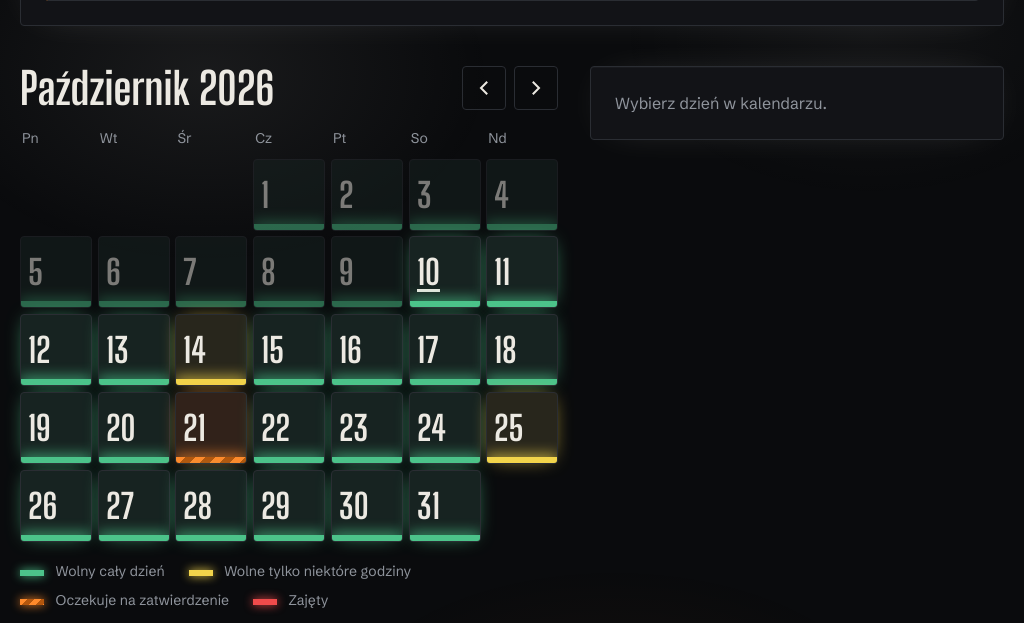
Test: panel admina › błąd wysyłki e-maila: spotkanie zatwierdzone, komunikat o błędzie, bez notified_at
(page scrolled)
Click the button "21" at point(211, 428), box left=175, top=392, right=247, bottom=464
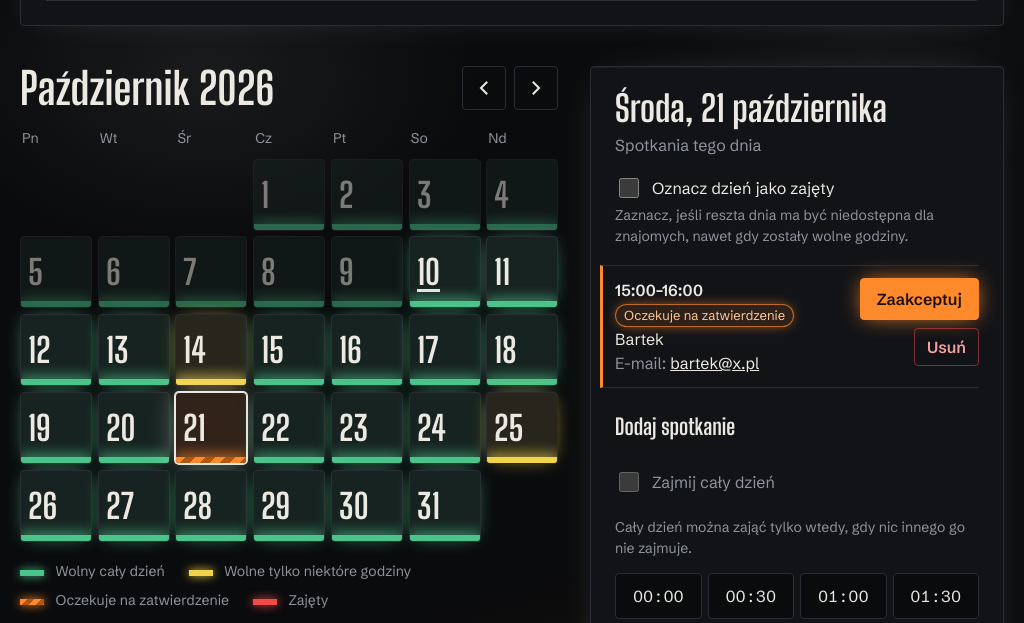
Click the button "Zaakceptuj" at point(919, 299), box left=860, top=278, right=979, bottom=320
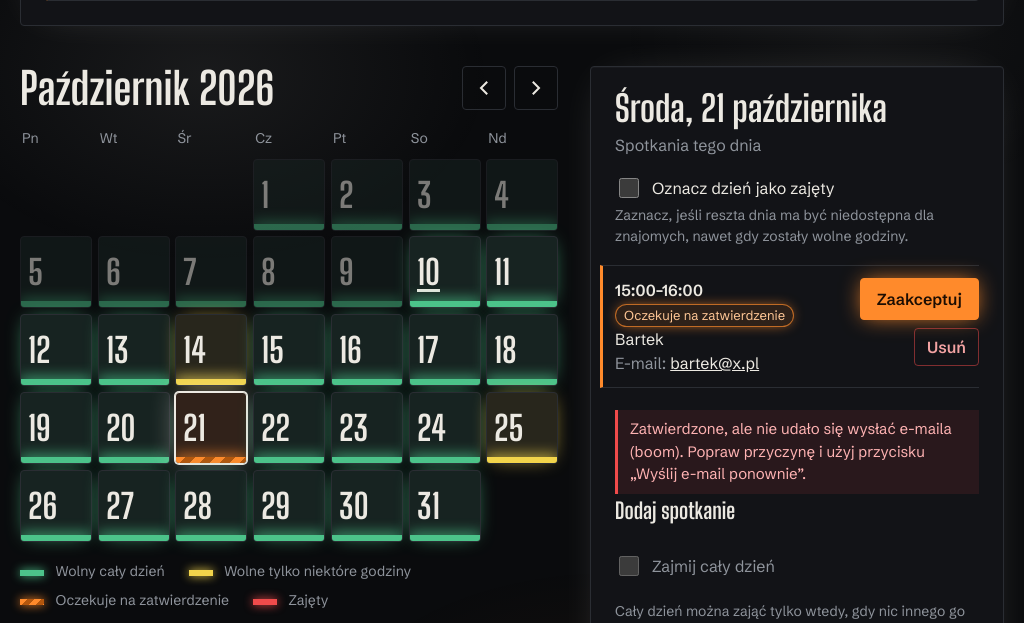
Expected: the text "nie udało się wysłać e-maila" is shown, left=630, top=419, right=952, bottom=483
